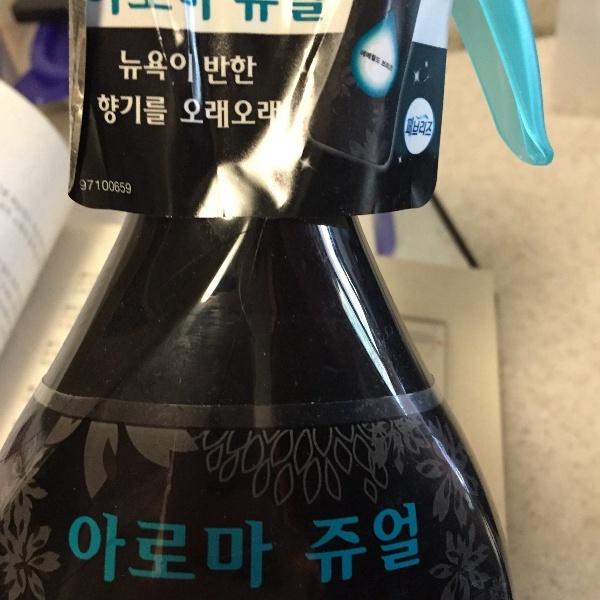text: (305, 498, 320, 597), (321, 498, 336, 597), (337, 498, 352, 597), (353, 498, 368, 597), (369, 498, 384, 597), (385, 498, 400, 597), (401, 498, 416, 597), (81, 511, 96, 594), (97, 511, 112, 594), (113, 511, 128, 594), (129, 511, 144, 594), (145, 511, 160, 594), (161, 511, 176, 594), (177, 511, 192, 594), (193, 511, 208, 594), (209, 511, 224, 594), (225, 511, 240, 594), (241, 511, 256, 594), (257, 511, 272, 594), (67, 511, 80, 594), (417, 498, 423, 597), (129, 50, 144, 86), (145, 50, 160, 86), (161, 50, 176, 86), (177, 50, 192, 86), (97, 94, 112, 129), (113, 94, 128, 129), (129, 94, 144, 129), (145, 94, 160, 129), (209, 53, 224, 88), (225, 53, 240, 88), (241, 53, 256, 88), (193, 96, 208, 130), (209, 96, 224, 130), (225, 96, 240, 130), (241, 96, 256, 130), (257, 96, 272, 130), (369, 47, 384, 75), (273, 96, 284, 130), (182, 96, 192, 130), (417, 117, 433, 138), (119, 50, 128, 86), (81, 178, 96, 198), (97, 178, 112, 198), (113, 178, 128, 198), (161, 94, 169, 129), (385, 47, 394, 75), (360, 47, 368, 75), (203, 53, 208, 88), (408, 117, 416, 138), (273, 511, 275, 594), (129, 178, 133, 198), (193, 50, 194, 86), (257, 53, 258, 88), (79, 178, 80, 198)
